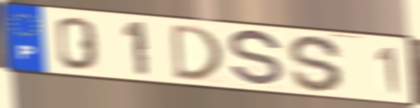0: (54, 15, 99, 72)
1: (120, 20, 152, 78), (375, 46, 401, 95)
D: (169, 22, 225, 81)
S: (286, 33, 345, 94), (227, 28, 286, 89)
